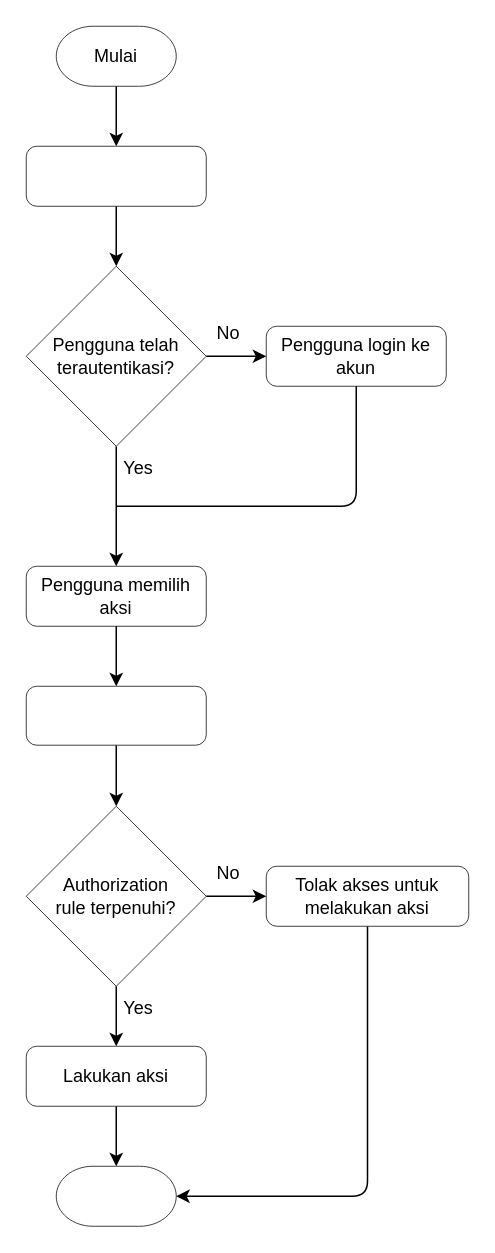
Image size: 495x1253. Some labels were removed from this diagram. Each missing label, with the box of its shape:
Berhenti: (55, 1165, 176, 1226)
Evaluasi authorization rule: (25, 685, 206, 745)
Pengguna memindai QR code: (25, 145, 206, 206)
